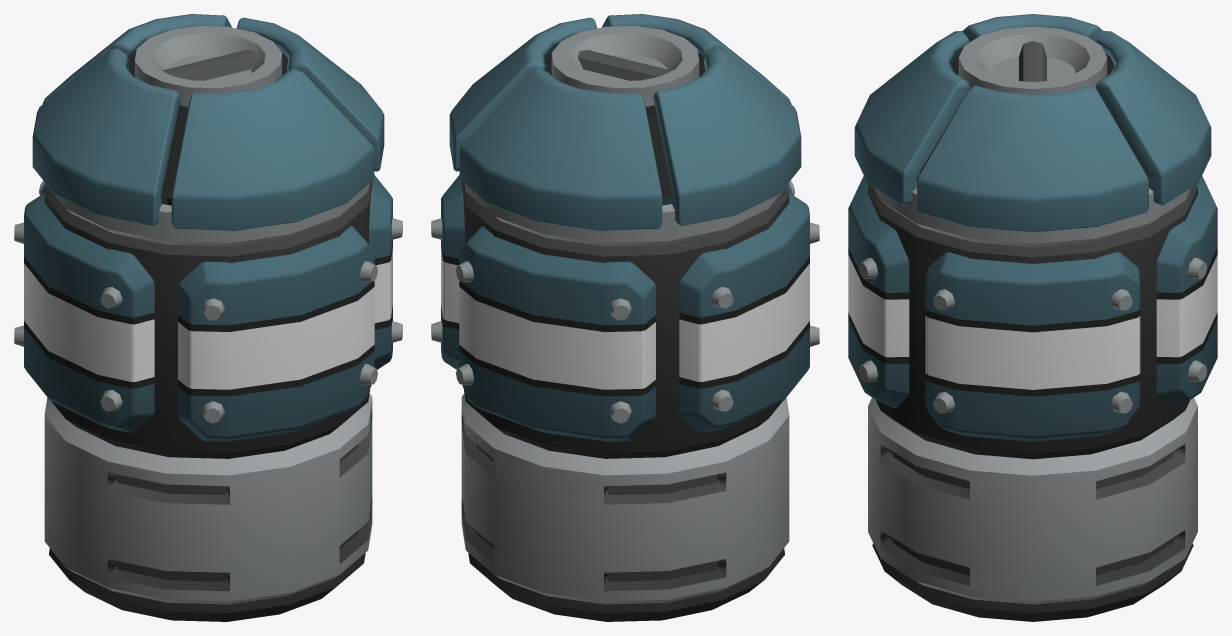
File: Canistre_002.fbx
3 renders of one model, left to right at view 1: azimuth 30°, elevation 25°; view 2: azimuth 150°, elevation 25°; view 3: azimuth 270°, elevation 25°, orthographic.
Visible parts, largest first — view 1: Canistre_002; view 2: Canistre_002; view 3: Canistre_002.
Part boxes in pixels (left/top/right/bottom): Canistre_002: left=14, top=14, right=402, bottom=621; Canistre_002: left=431, top=14, right=819, bottom=621; Canistre_002: left=848, top=14, right=1217, bottom=621.
Bounding box in the file's own units: 32.41 × 32.41 × 49.11.
